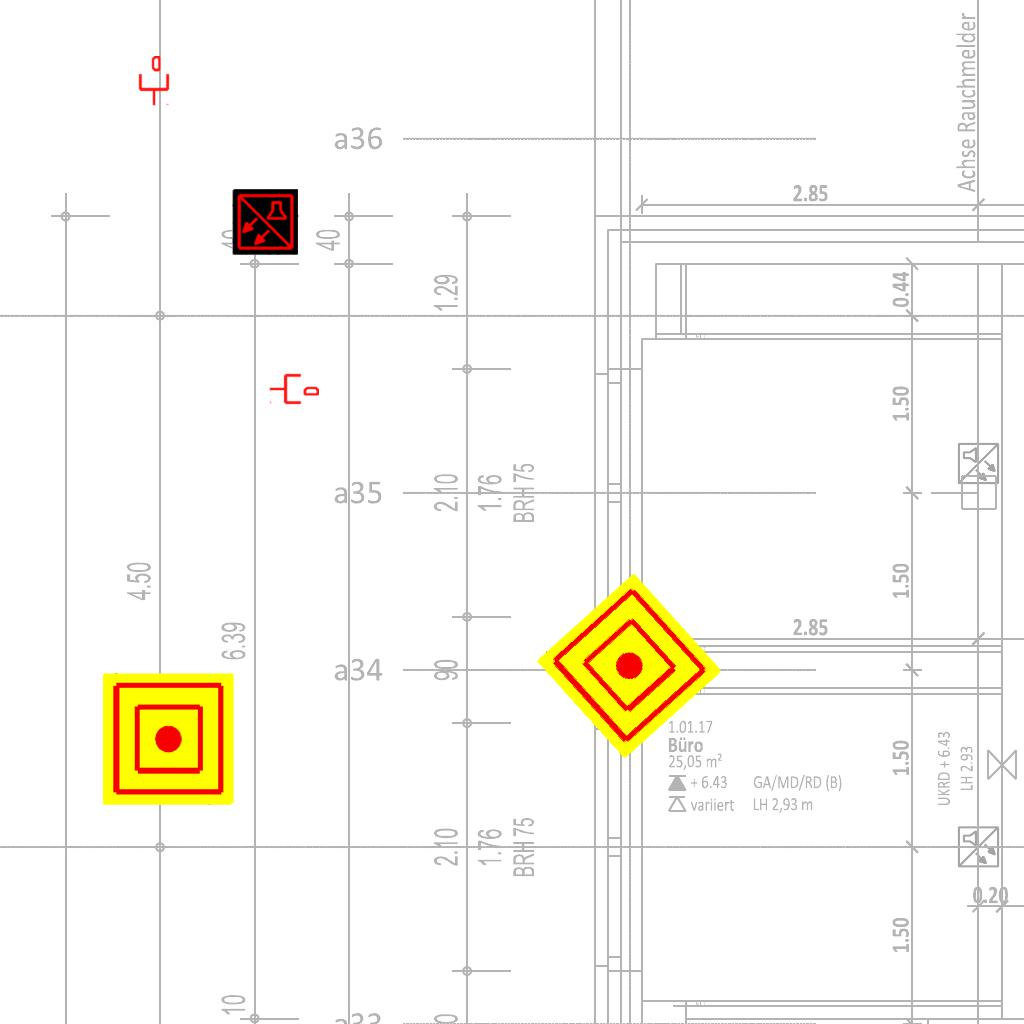Datenanschluss_einfach: (137, 56, 171, 106), (269, 372, 319, 406)
NAM-Nichtautomatischer_Melder: (535, 572, 723, 760), (102, 673, 234, 805)
OKW_Multisensormelder_(Kombination_optischer_Rauch-Kahlenmonoxid_Waerme-Melder): (232, 189, 298, 255)
